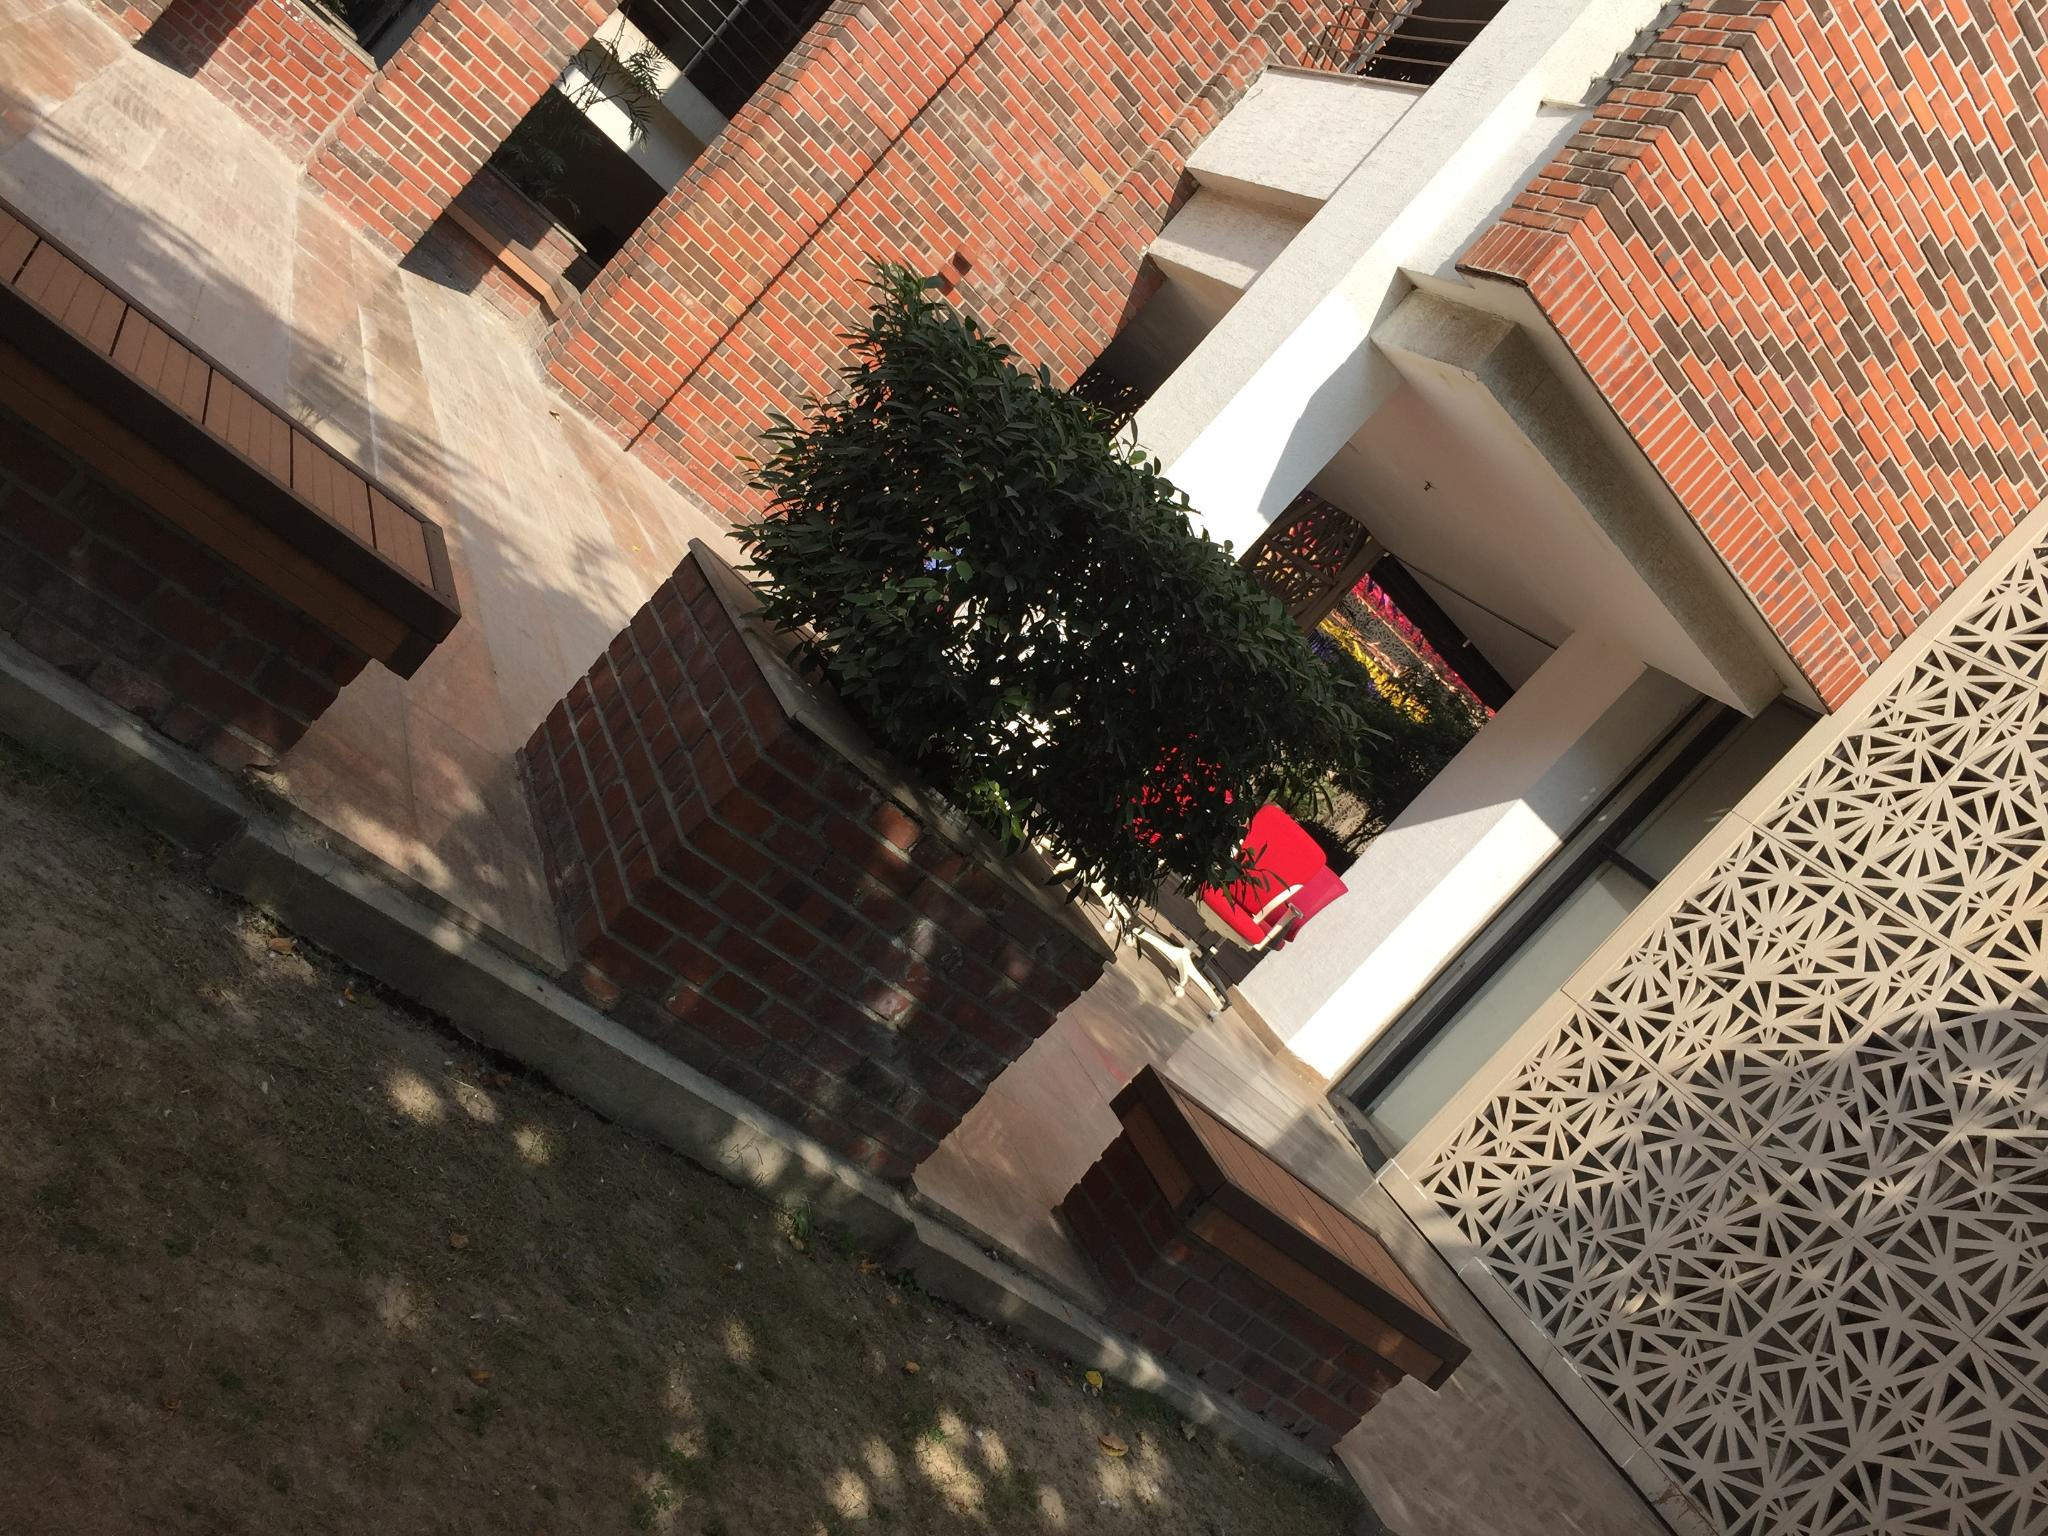chair: (1005, 721, 1259, 936), (1195, 800, 1348, 957), (1256, 871, 1361, 971)
